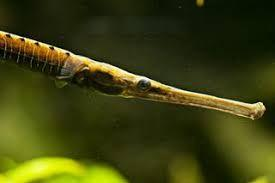Long-Snouted Pipefish: (1, 27, 267, 124)
